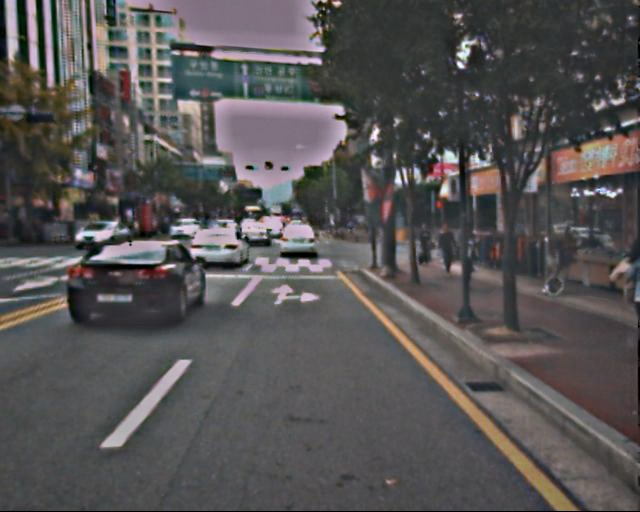person: (457, 223, 481, 282), (437, 222, 460, 277), (416, 222, 435, 269)
